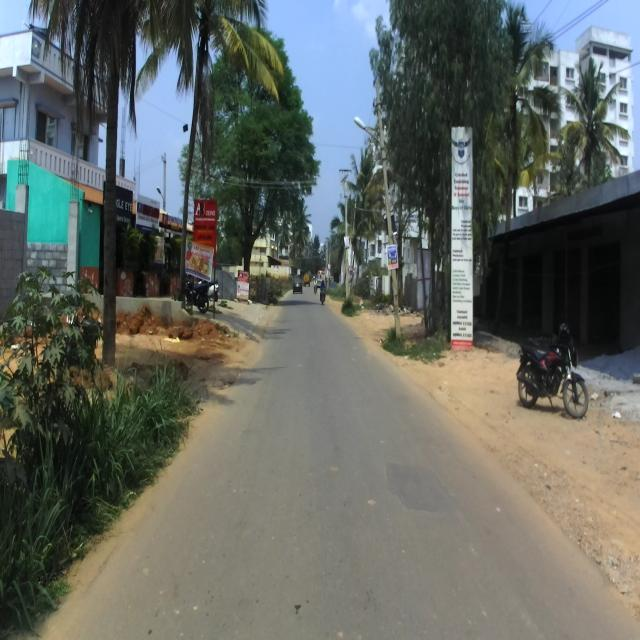motorcycle ahead at: (515, 313, 587, 424)
